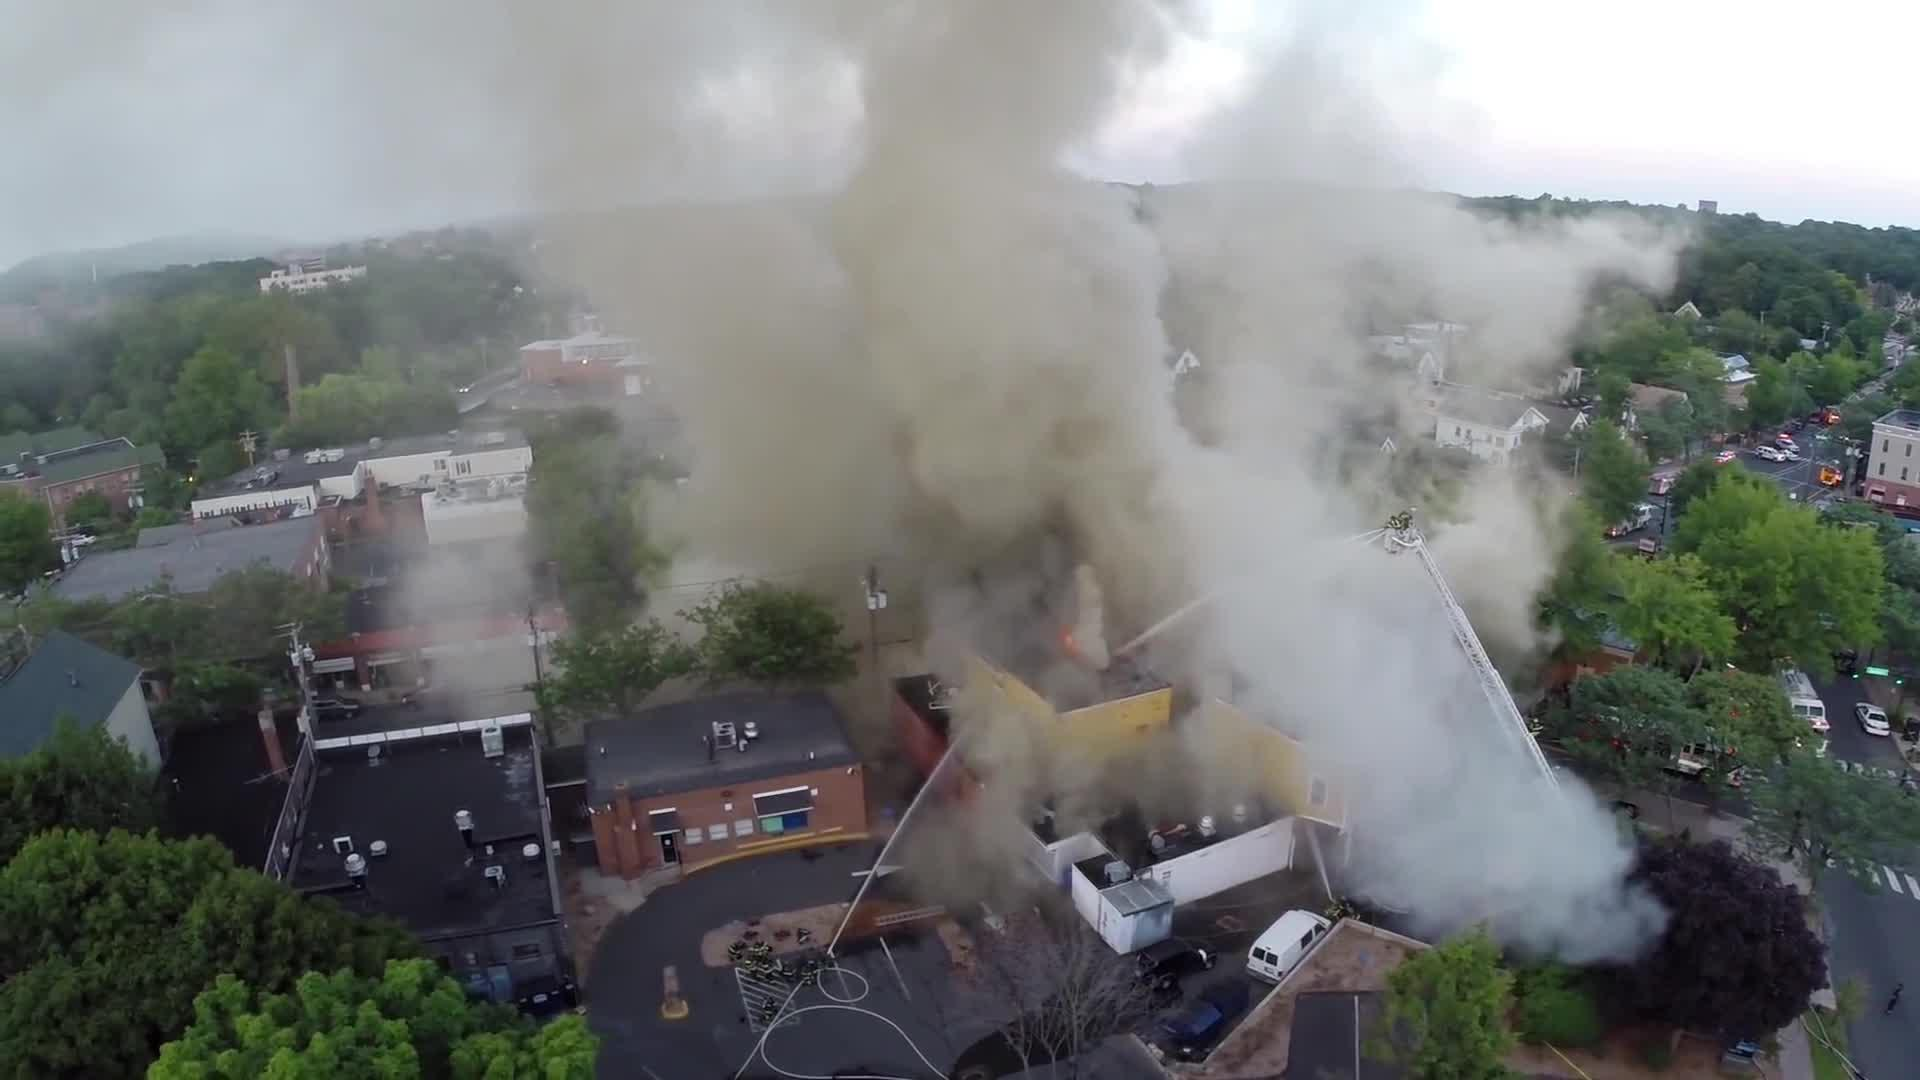smoke: (653, 28, 1144, 481)
